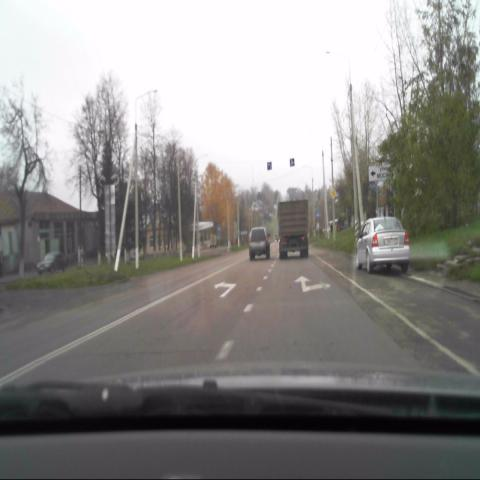2_1: (330, 189, 336, 200)
